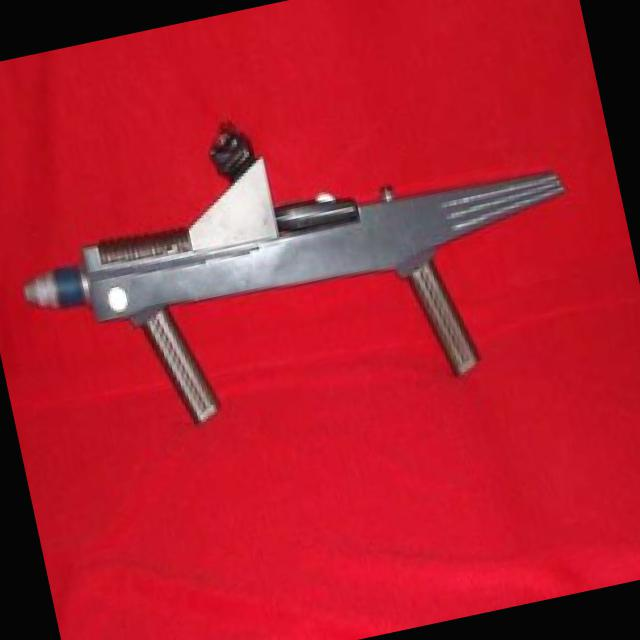long weapon: (0, 54, 622, 472)
